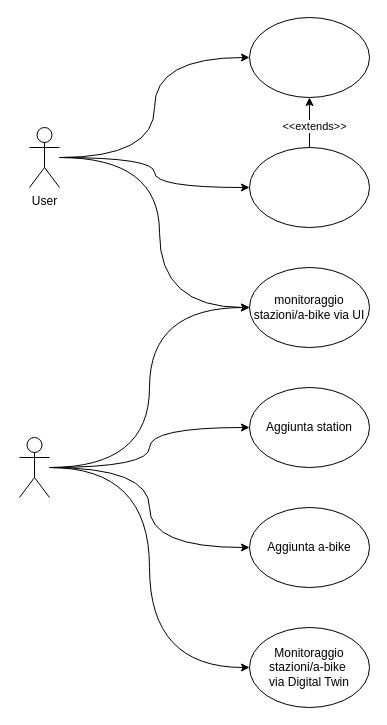
Image size: 387x725. Some labels were removed from this diagram. The centre of each missing label's shape, as x and y in pixels:
Admin: point (34, 467)
Annullare richiesta a-bike: point (309, 187)
RIchiedere a-bike: point (309, 57)
